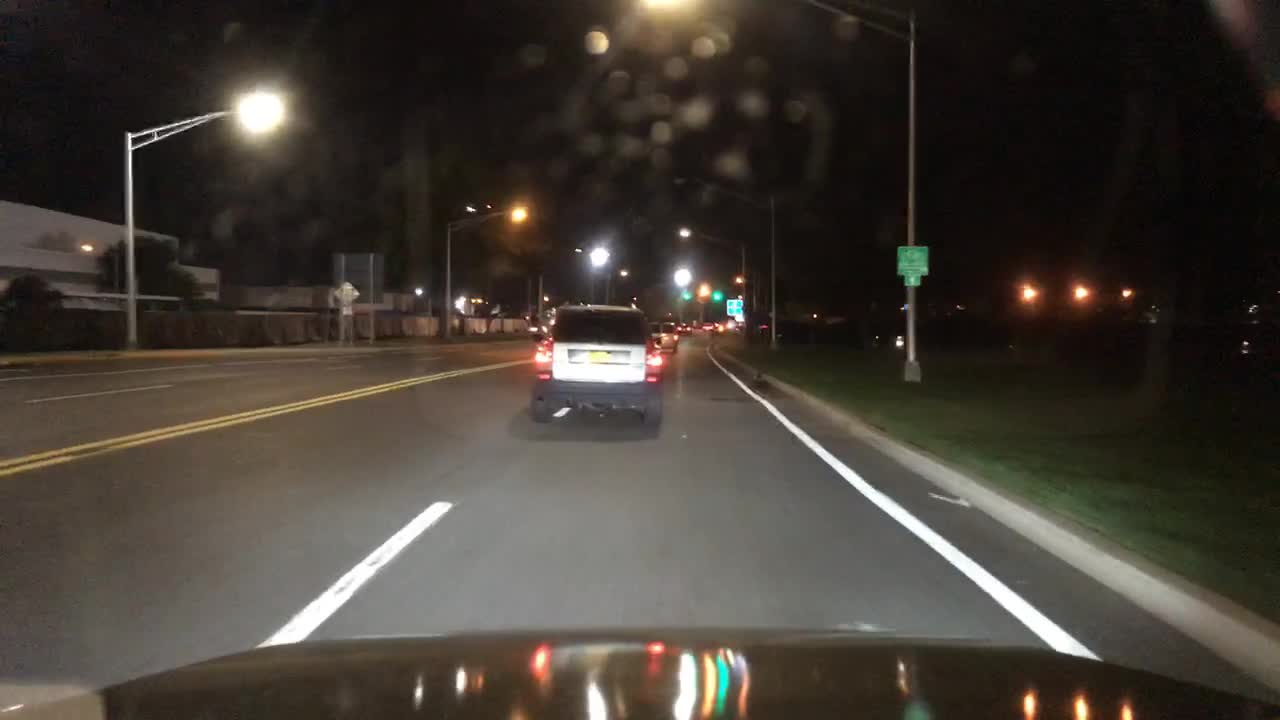car: (528, 301, 665, 426), (778, 307, 856, 334), (648, 324, 680, 353), (526, 323, 551, 339), (717, 319, 736, 331), (676, 323, 696, 334), (703, 320, 716, 331)
traffic light: (680, 288, 694, 303), (714, 289, 723, 303)
traffic sign: (333, 252, 385, 303), (896, 247, 927, 274), (333, 282, 361, 303), (902, 274, 923, 286), (728, 298, 742, 316), (337, 304, 357, 315)
